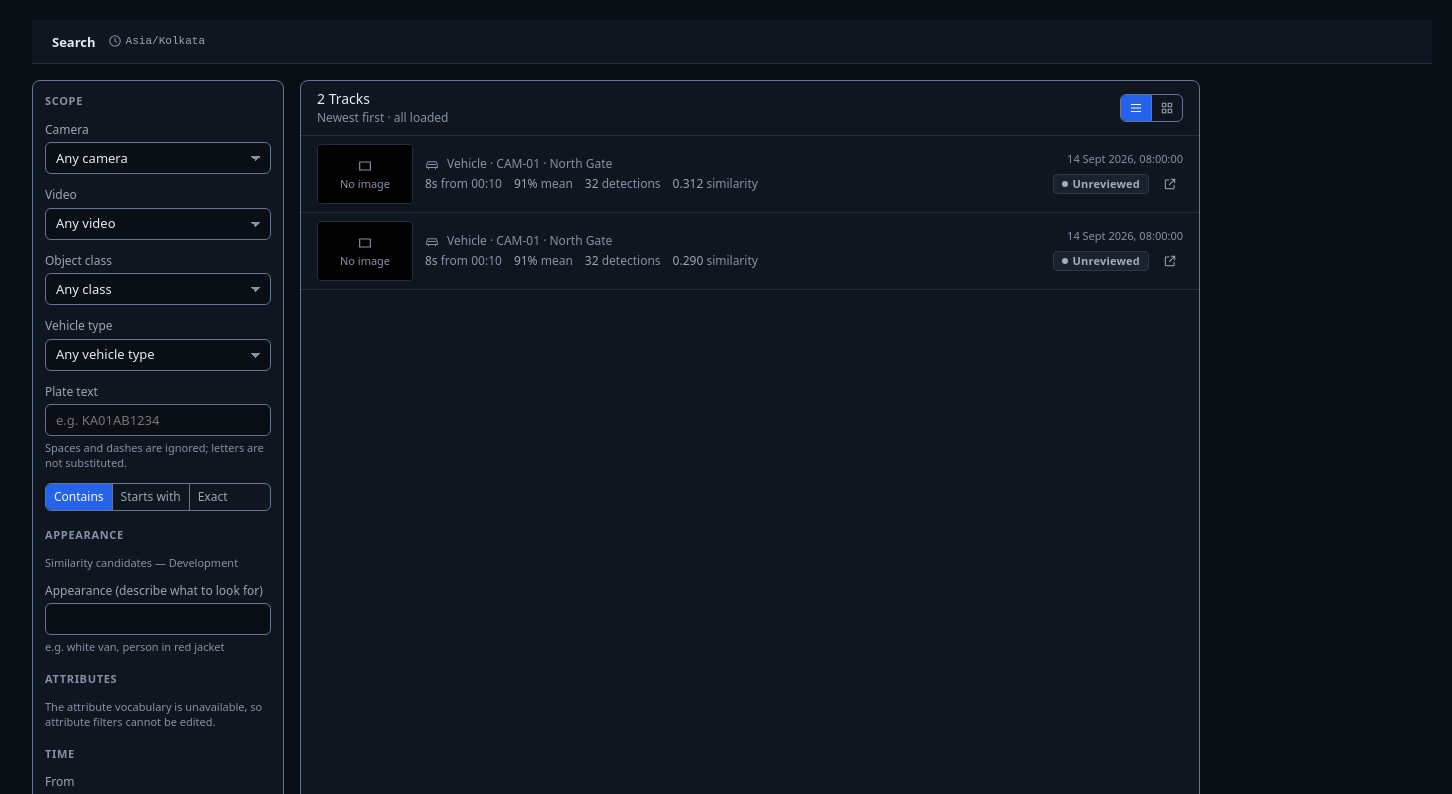
Test: PoC S4 appearance query on Search › commits a description from the rail into the URL and asks for one ranked page
This screenshot has width=1452, height=794.
Expected: the text "e.g. white van, person in red jacket" is shown, [45,639,224,654]
Step 1. Type "white  van" into the field labelled "Appearance (describe what to look for)" → {"x": 158, "y": 619}, box [45,603,271,635]
(page scrolled)
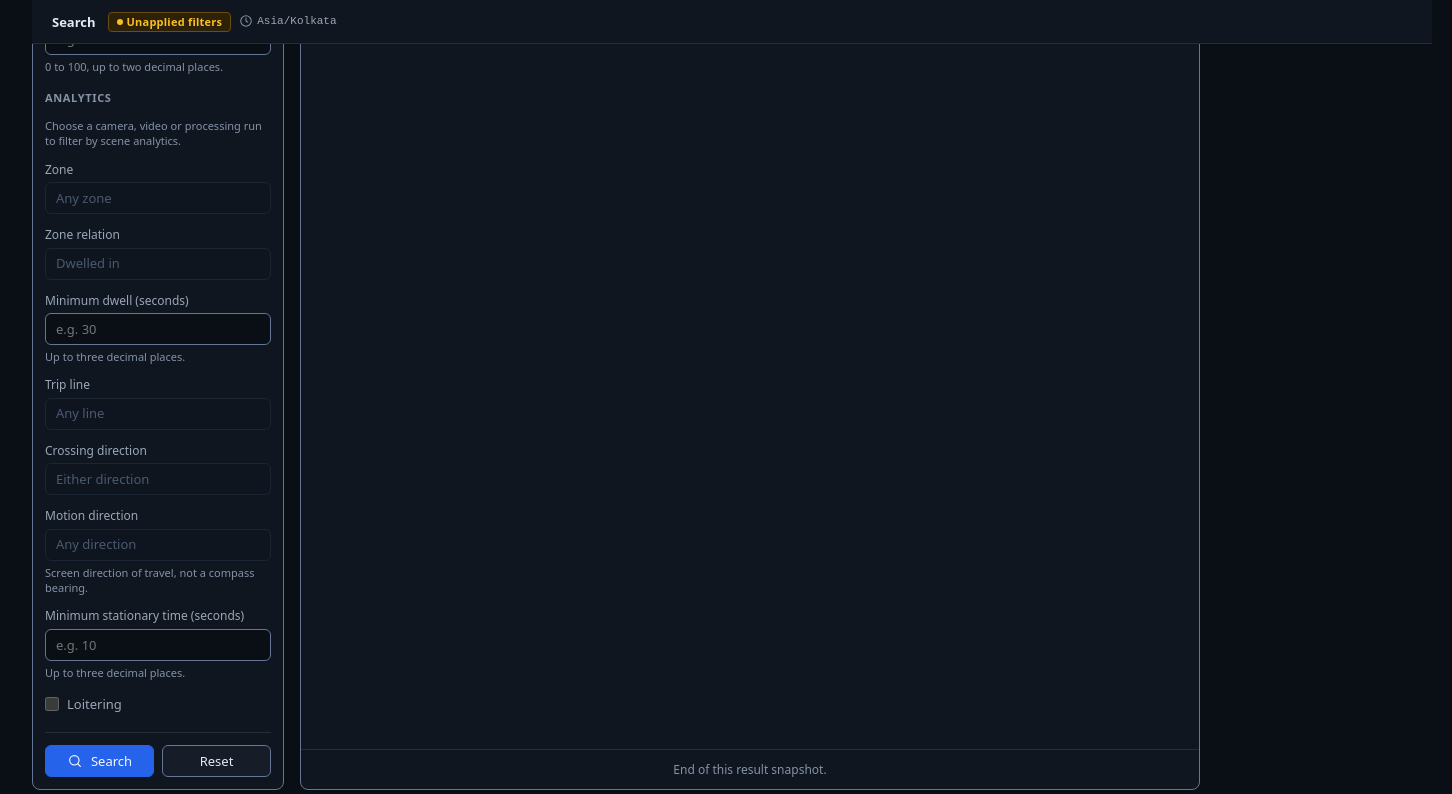
Step 2. Click the button "Search" → {"x": 100, "y": 761}, box [45,745,154,777]
(page scrolled)
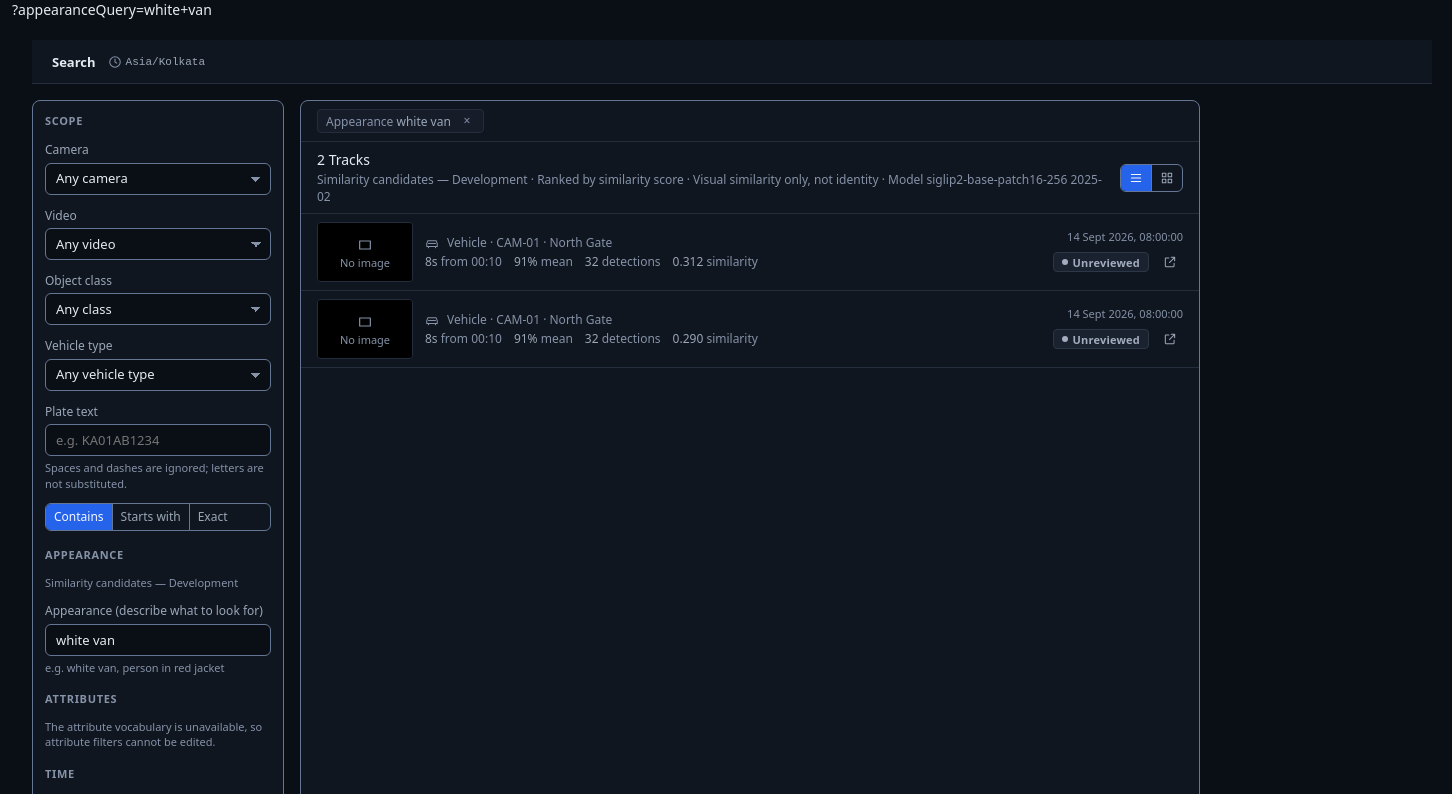
Result: the text named "Current search location" reads "?appearanceQuery=white+van" at [12,0,212,19]
Result: the text "Appearance" is shown at [326,113,393,130]
Result: the element named "Committed filters" shows "white van" at [396,113,451,130]
